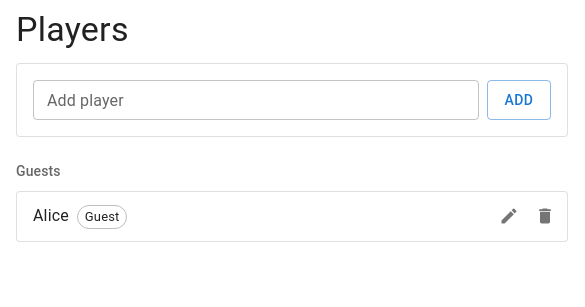
Scenario: PlayersListPage › adds a new player
Check: the text "Alice" is shown, box [33,204,69,228]
Type "Bob" into the field labelled "Add player".
click(256, 100); type("Bob")  # box [33,80,479,120]
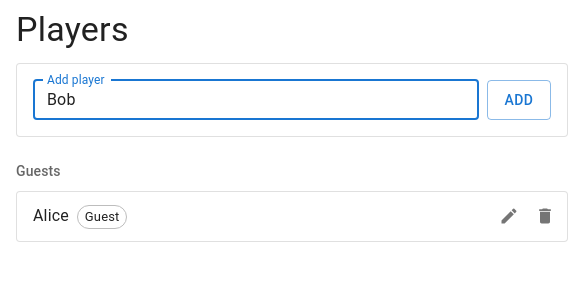
Click the button "Add".
click(519, 100)  # box [487,80,551,120]
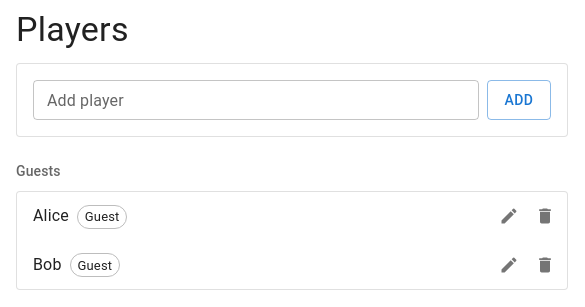
Check: the text "Bob" is shown, box [33,253,62,277]
